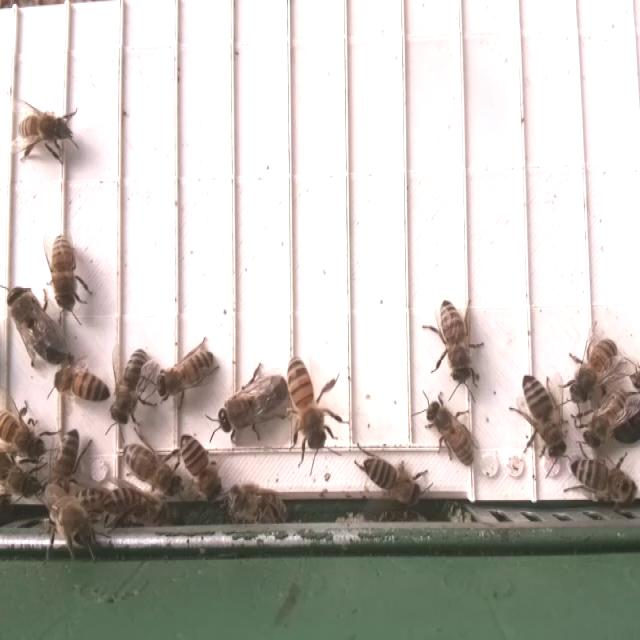Drone: (3, 282, 70, 368), (214, 371, 290, 438)
Worker: (520, 371, 568, 466), (285, 354, 329, 454), (424, 398, 477, 470), (121, 440, 183, 498), (108, 347, 152, 428), (154, 346, 218, 401), (436, 295, 474, 386), (570, 335, 620, 404), (176, 430, 225, 498), (358, 451, 422, 501), (570, 452, 636, 500), (14, 110, 78, 150), (50, 231, 79, 317), (48, 423, 82, 492), (53, 366, 112, 404)
